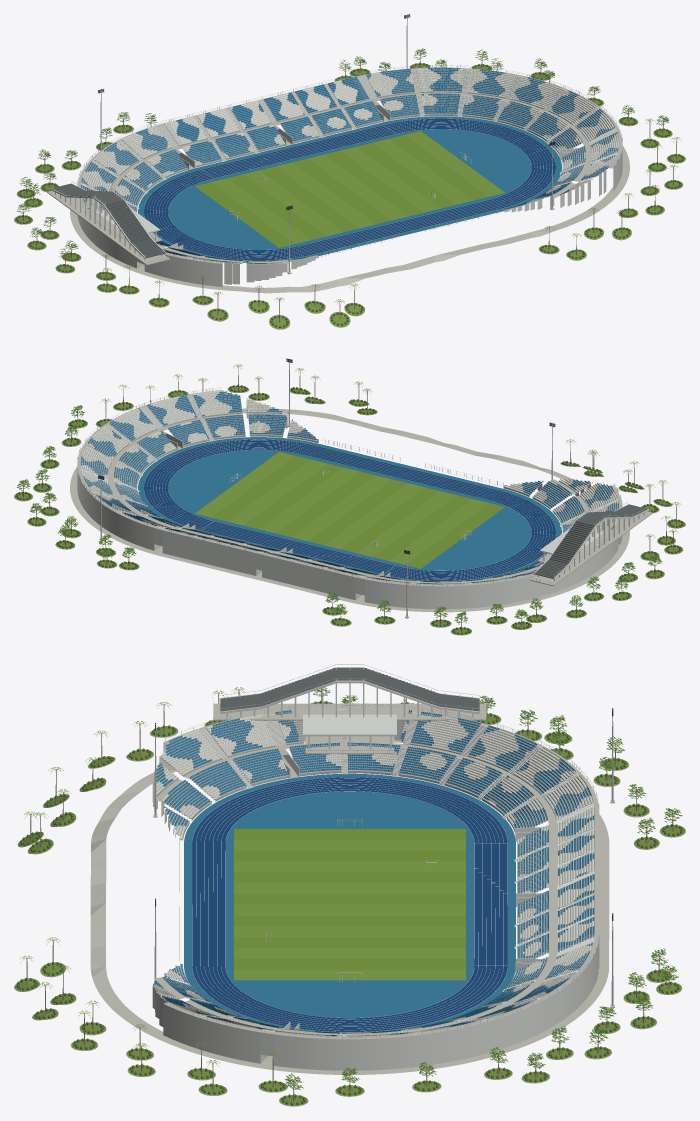
File: stadium-lod1.glb
3 views of the same model, one above another, from view 1: azimuth 30°, elevation 25°; view 2: azimuth 150°, elevation 25°; view 3: azimuth 270°, elevation 25° (orthographic). The views are drawn at different scales.
Visible parts, largest first — view 1: two tier seating terraces | concrete.001, individual blue bucket seats | blue seats.001, blue track runoff apron | runoff.001, eight lane blue running track | track.001, natural turf mowing strips | grass.001, natural turf mowing strips | grass stripe.001, individual white bucket seats | white seats.001, white stand cheek walls and copings | ivory metal.001, circulation concourses | pale paving.001, connected planted lawns | lawn.001, terrain conforming perimeter paving | pale paving.001, track lane and staggered start markings | white line.001 (+9 smaller); view 2: white stand cheek walls and copings | ivory metal.001, blue track runoff apron | runoff.001, eight lane blue running track | track.001, two tier seating terraces | concrete.001, natural turf mowing strips | grass.001, natural turf mowing strips | grass stripe.001, individual blue bucket seats | blue seats.001, individual white bucket seats | white seats.001, circulation concourses | pale paving.001, terrain conforming perimeter paving | pale paving.001, track lane and staggered start markings | white line.001, connected planted lawns | lawn.001 (+9 smaller); view 3: two tier seating terraces | concrete.001, blue track runoff apron | runoff.001, eight lane blue running track | track.001, white stand cheek walls and copings | ivory metal.001, individual blue bucket seats | blue seats.001, natural turf mowing strips | grass stripe.001, natural turf mowing strips | grass.001, individual white bucket seats | white seats.001, circulation concourses | pale paving.001, terrain conforming perimeter paving | pale paving.001, connected planted lawns | lawn.001, track lane and staggered start markings | white line.001 (+9 smaller).
Part boxes in pixels (<box>): two tier seating terraces | concrete.001: <box>80,69,619,264</box>; individual blue bucket seats | blue seats.001: <box>81,67,618,263</box>; blue track runoff apron | runoff.001: <box>138,116,561,262</box>; eight lane blue running track | track.001: <box>144,118,555,260</box>; natural turf mowing strips | grass.001: <box>195,135,488,247</box>; natural turf mowing strips | grass stripe.001: <box>211,131,504,243</box>; individual white bucket seats | white seats.001: <box>82,68,618,263</box>; white stand cheek walls and copings | ivory metal.001: <box>77,69,622,286</box>; circulation concourses | pale paving.001: <box>47,67,622,268</box>; connected planted lawns | lawn.001: <box>14,63,685,329</box>; terrain conforming perimeter paving | pale paving.001: <box>70,119,629,293</box>; track lane and staggered start markings | white line.001: <box>144,118,555,260</box>; white stand cheek walls and copings | ivory metal.001: <box>77,394,622,609</box>; blue track runoff apron | runoff.001: <box>138,437,561,581</box>; eight lane blue running track | track.001: <box>144,439,555,580</box>; two tier seating terraces | concrete.001: <box>80,391,619,584</box>; natural turf mowing strips | grass.001: <box>211,456,504,568</box>; natural turf mowing strips | grass stripe.001: <box>195,452,488,564</box>; individual blue bucket seats | blue seats.001: <box>81,391,618,584</box>; individual white bucket seats | white seats.001: <box>81,390,618,584</box>; circulation concourses | pale paving.001: <box>77,390,652,600</box>; terrain conforming perimeter paving | pale paving.001: <box>70,408,629,612</box>; track lane and staggered start markings | white line.001: <box>144,439,555,581</box>; connected planted lawns | lawn.001: <box>14,386,685,634</box>; two tier seating terraces | concrete.001: <box>153,711,594,1037</box>; blue track runoff apron | runoff.001: <box>184,773,515,1033</box>; eight lane blue running track | track.001: <box>192,777,507,1031</box>; white stand cheek walls and copings | ivory metal.001: <box>152,708,599,1070</box>; individual blue bucket seats | blue seats.001: <box>154,710,594,1036</box>; natural turf mowing strips | grass stripe.001: <box>234,839,465,980</box>; natural turf mowing strips | grass.001: <box>234,829,465,969</box>; individual white bucket seats | white seats.001: <box>154,714,594,1036</box>; circulation concourses | pale paving.001: <box>154,703,599,1062</box>; terrain conforming perimeter paving | pale paving.001: <box>90,740,609,1074</box>; connected planted lawns | lawn.001: <box>14,702,685,1105</box>; track lane and staggered start markings | white line.001: <box>192,777,507,1032</box>.
Bounding box in the file's own units: 280 × 38.03 × 197.
